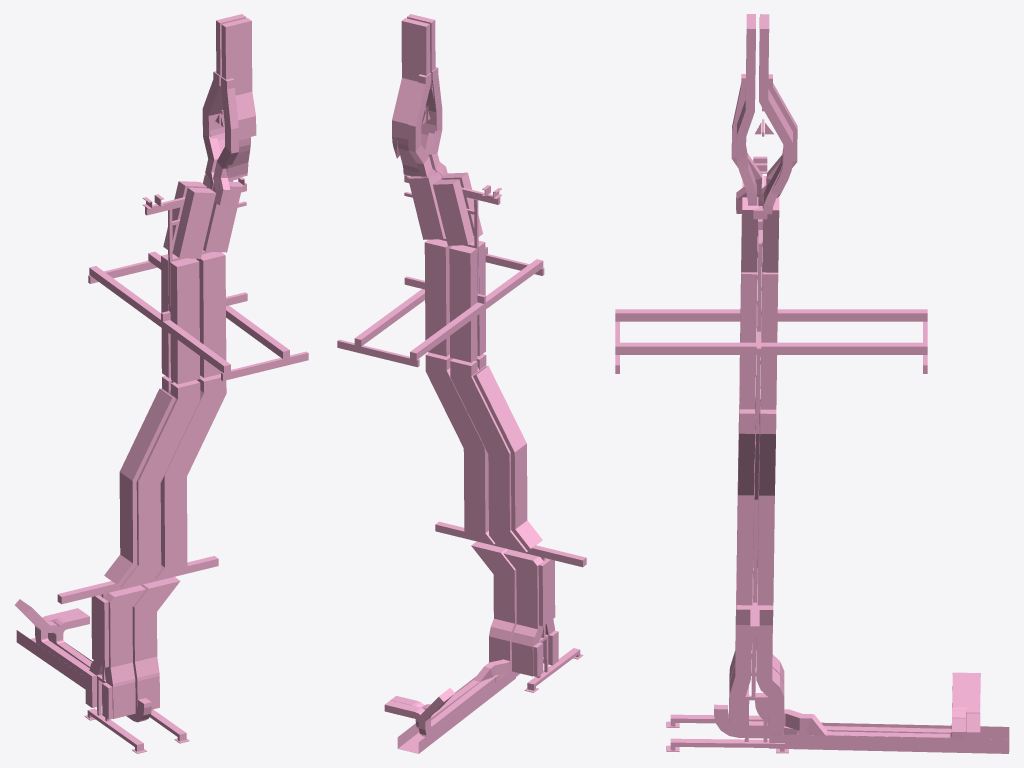
File: Serv-Z0-Sec13-cut2.glb
3 views of the same model, side by side, from view 1: azimuth 30°, elevation 25°; view 2: azimuth 150°, elevation 25°; view 3: azimuth 270°, elevation 25° (orthographic). The views are drawn at different scales.
Visible parts, largest first — view 1: Serv-Z0-Sec13-cut2, Serv-Z0-Sec13-Frames-cut2; view 2: Serv-Z0-Sec13-cut2, Serv-Z0-Sec13-Frames-cut2; view 3: Serv-Z0-Sec13-cut2, Serv-Z0-Sec13-Frames-cut2.
Boxes of the visible parts, x1,y1,x2,y2 form: Serv-Z0-Sec13-cut2: (15, 14, 256, 722); Serv-Z0-Sec13-Frames-cut2: (16, 91, 308, 753); Serv-Z0-Sec13-cut2: (384, 14, 558, 736); Serv-Z0-Sec13-Frames-cut2: (337, 107, 586, 753); Serv-Z0-Sec13-cut2: (714, 14, 980, 740); Serv-Z0-Sec13-Frames-cut2: (615, 85, 1009, 753).
Size of the model in its own units: 2.7 by 9.22 by 4.21.
